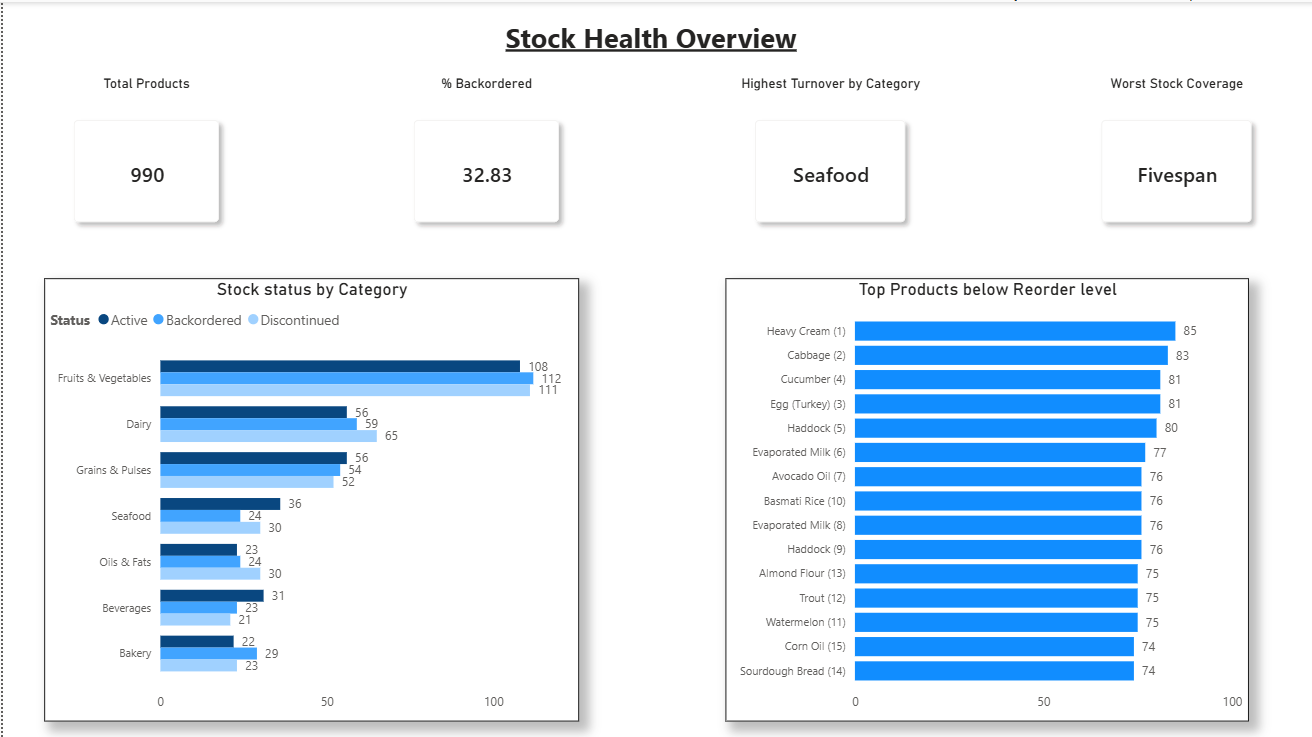

This screenshot's page, from the dashboard's own definition file:
{"tool":"powerbi","page":{"name":"Stock Health Overview","canvas":[1280,720],"ordinal":0},"visuals":[{"type":"cardVisual","title":"Total Products","fields":{"Data":["Sum(Query6.Total_Products)"]},"box":[39.8,72.7,200.3,172.9],"z":0},{"type":"cardVisual","title":"% Backordered","fields":{"Data":["Sum(Query6.%_Backordered)"]},"box":[373.2,72.7,200.3,172.9],"z":1000},{"type":"cardVisual","title":"Highest Turnover by Category","fields":{"Data":["Min(Query6.Highest_Turnover_Category)"]},"box":[706.7,72.7,205.8,172.9],"z":2000},{"type":"cardVisual","title":"Worst Stock Coverage","fields":{"Data":["Min(Query6.Worst_Stock_Coverage_Supplier)"]},"box":[1045.6,72.7,205.8,172.9],"z":2001},{"type":"clusteredBarChart","title":"Stock status by Category","fields":{"Category":["Query1.Catagory"],"Y":["Sum(Query1.Total Products)"],"Series":["Query1.Status"]},"box":[39.8,270.3,522.8,433.6],"z":2002},{"type":"clusteredBarChart","title":"Top Products below Reorder level","fields":{"Y":["Sum(Query2.Stock_Shortfall)"],"Category":["Query2.Product_Label"]},"box":[706.7,270.3,511.8,433.6],"z":2003},{"type":"textbox","box":[487.1,11,303.3,61.7],"z":2004}]}

Visuals, with their boxes in screenshot pixels (x1, y1, x2, y2), scaled from the page's 1280x720 canvas onto the 1312x737 screenshot:
"Total Products" cardVisual: 41:74:246:251
"% Backordered" cardVisual: 383:74:588:251
"Highest Turnover by Category" cardVisual: 724:74:935:251
"Worst Stock Coverage" cardVisual: 1072:74:1283:251
"Stock status by Category" clusteredBarChart: 41:277:577:721
"Top Products below Reorder level" clusteredBarChart: 724:277:1249:721
textbox: 499:11:810:74
